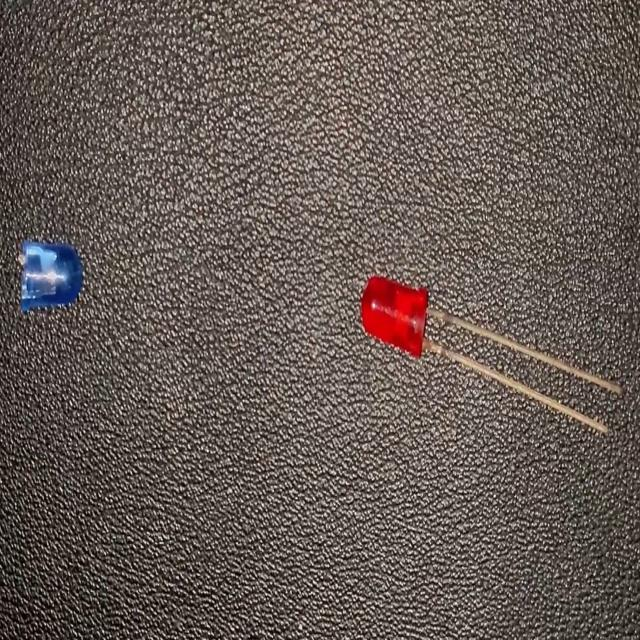LED: (358, 270, 623, 440)
missing-leg: (15, 239, 88, 315)
